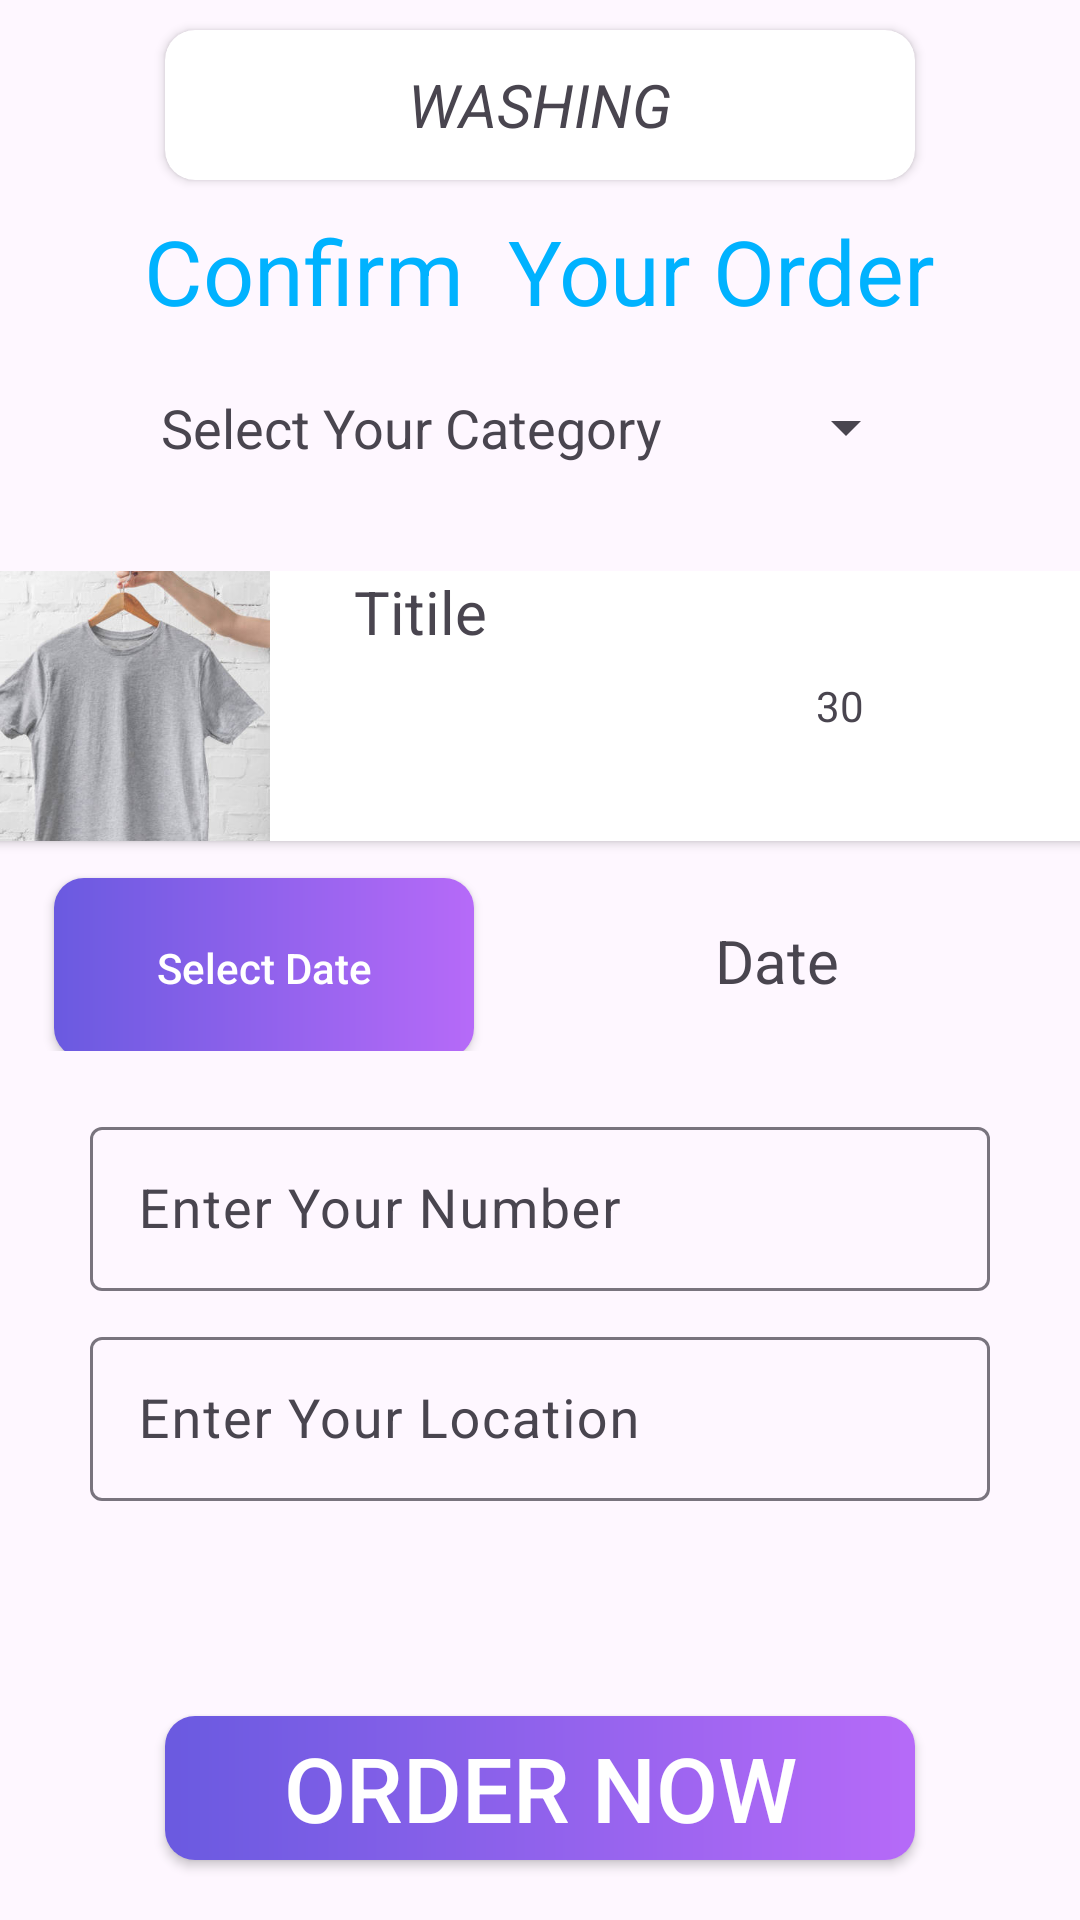

Named icons in this screenshot (1080px x 1920px) and their bounding boxes, (x1, y1, x2, y2):
shirt: (0, 571, 270, 841)
